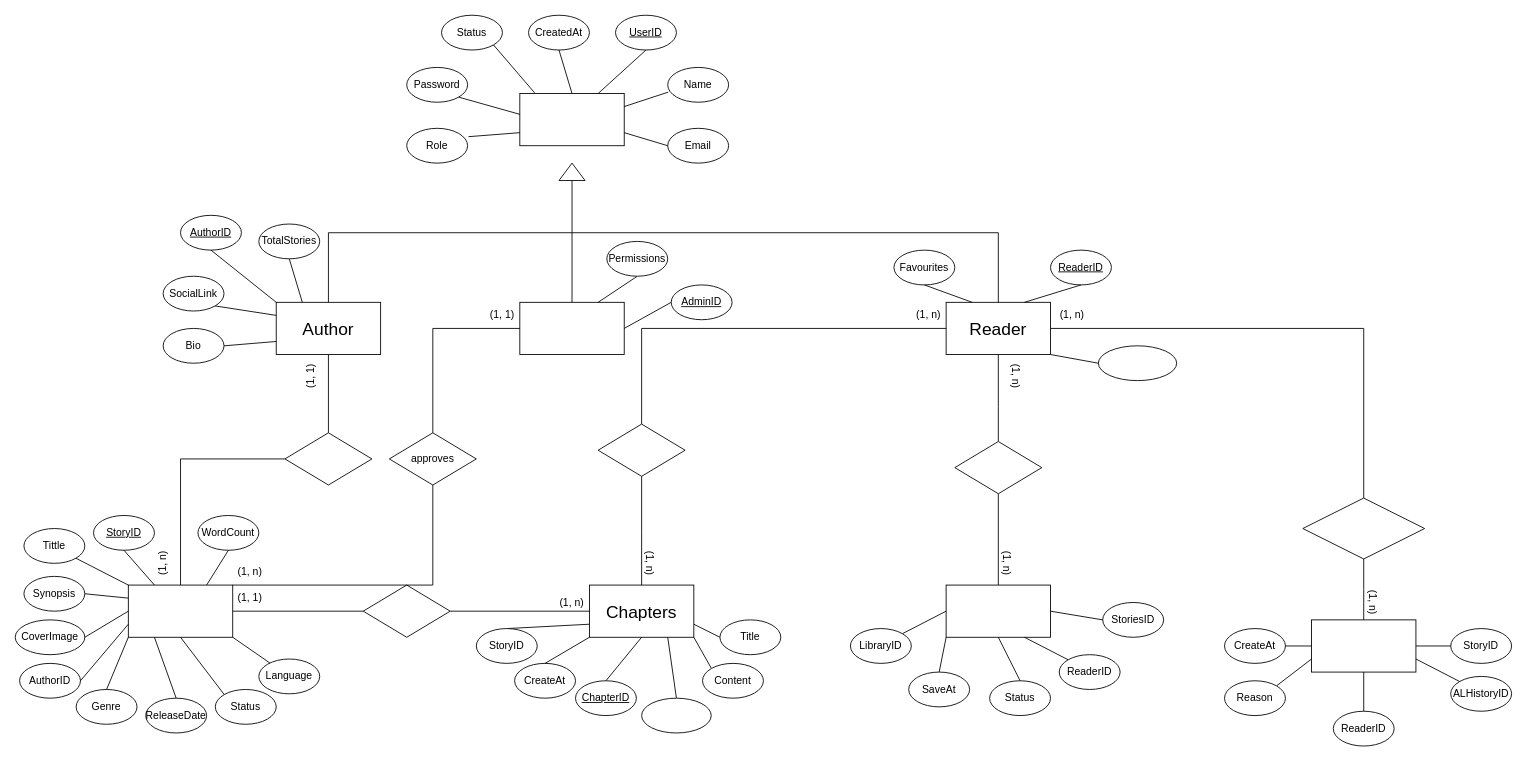
Some shapes in this 1527 by 761 pixel diagram are drawn without their labels. The box of each missing label's shape, as (x1, y1, x2, y2) in pixels:
Admin: (519, 301, 624, 355)
AI_History: (1311, 619, 1416, 672)
constains: (362, 584, 450, 637)
Library: (945, 584, 1051, 637)
OrderNumber: (641, 697, 711, 733)
ReadingHistory: (1098, 345, 1177, 381)
reads: (597, 423, 685, 476)
receives_ recommendation: (1302, 497, 1425, 559)
save_to: (954, 441, 1042, 494)
Stories: (127, 584, 233, 637)
User: (519, 93, 624, 146)
writes: (284, 432, 372, 485)
